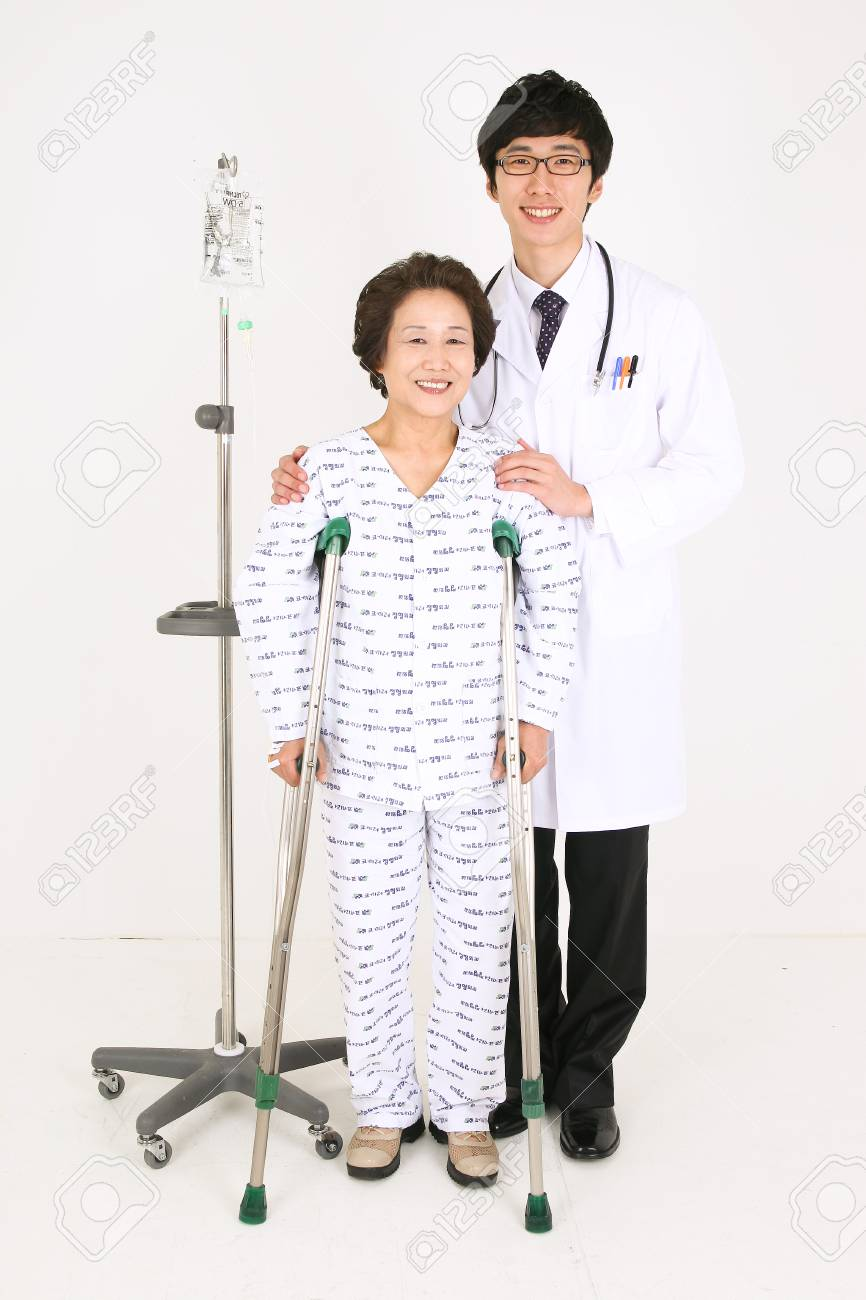crutches: (239, 254, 583, 1238)
